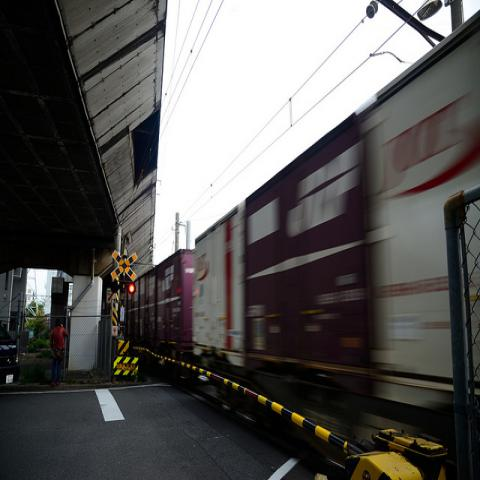car: (0, 319, 18, 386)
